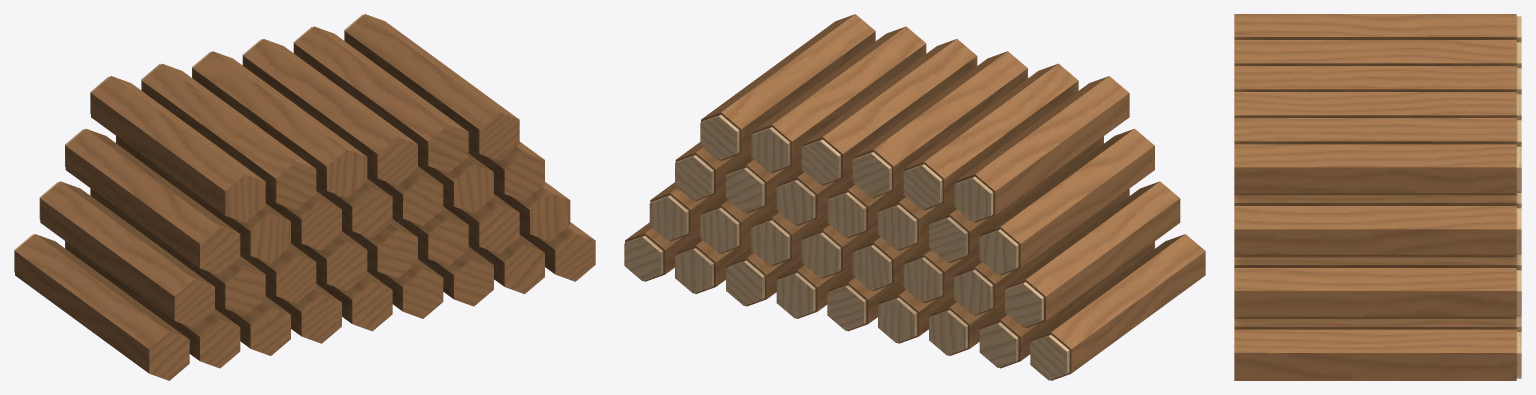
File: vedtrave_tex.glb
3 renders of one model, left to right at view 1: azimuth 30°, elevation 25°; view 2: azimuth 150°, elevation 25°; view 3: azimuth 270°, elevation 25°, orthographic. The views are drawn at different scales.
Visible parts, largest first — view 1: vedtrave; view 2: vedtrave; view 3: vedtrave.
Part boxes in pixels (x1,y1,x2,y2): vedtrave: [14, 14, 595, 380]; vedtrave: [624, 14, 1205, 380]; vedtrave: [1234, 14, 1521, 380].
Bounding box in the file's own units: 2.11 × 0.85 × 1.12.
2 materials, 2 textured.
